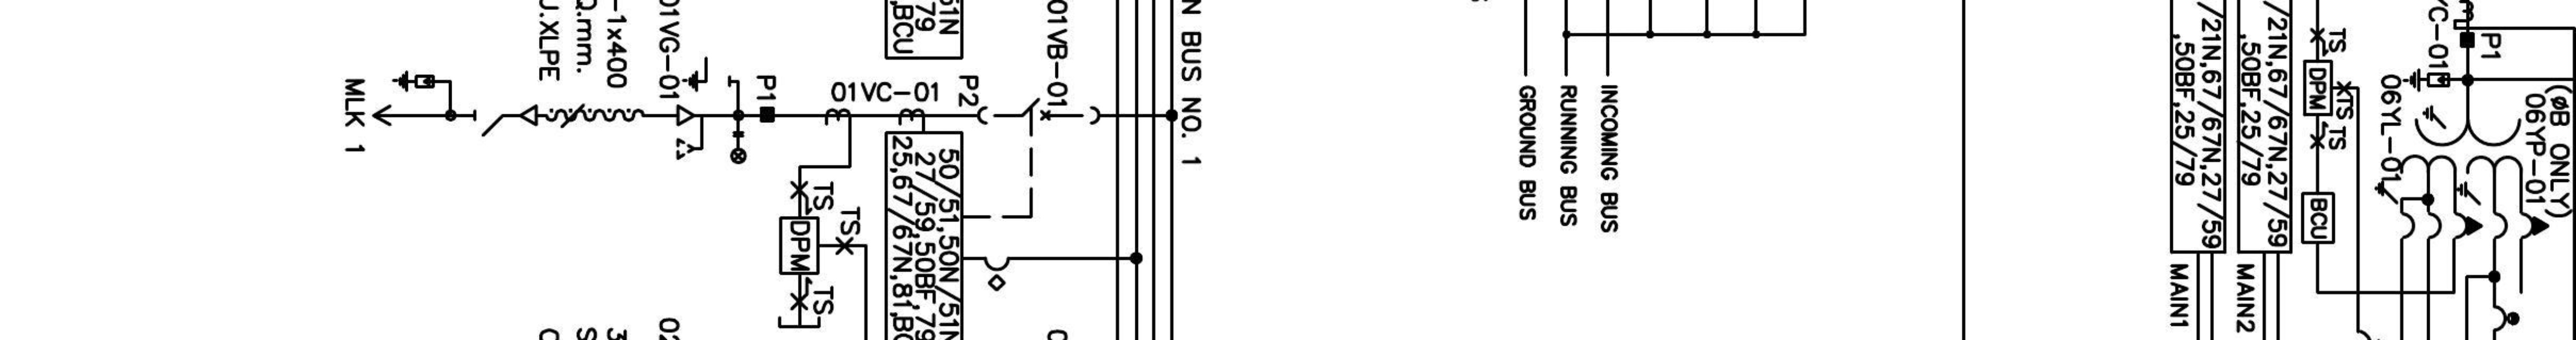115_la: (2402, 67, 2451, 94)
115_vt_1p: (2374, 103, 2550, 241)
22_breaker: (976, 97, 1101, 125)
22_ds_la_out: (371, 71, 504, 136)
22_gs: (682, 56, 731, 94)
22_ll: (729, 130, 748, 164)
BCU: (2300, 191, 2336, 245)
DPM: (779, 215, 820, 276), (2303, 59, 2333, 117)
terminator_single: (518, 103, 539, 126)
terminator_w_future: (675, 103, 705, 161)
